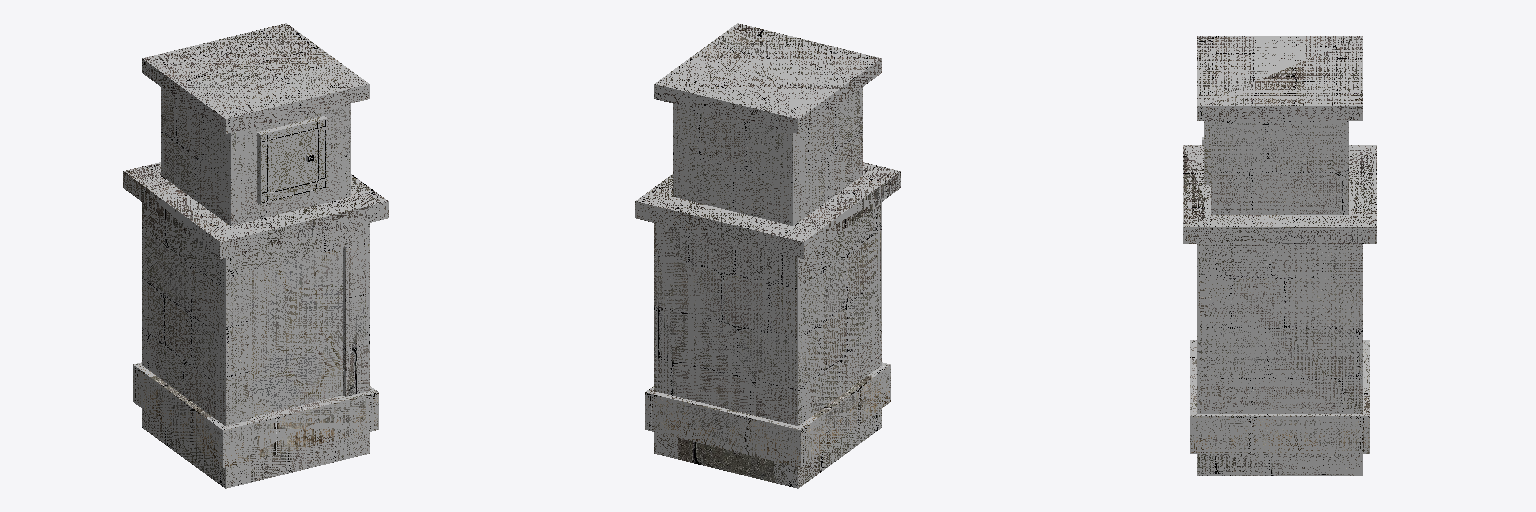
3 renders of one model, left to right at view 1: azimuth 30°, elevation 25°; view 2: azimuth 150°, elevation 25°; view 3: azimuth 270°, elevation 25°, orthographic.
Parts seen in each view (by area): view 1: mesh3.003_mesh3-geometry, mesh1.004_mesh1-geometry; view 2: mesh3.003_mesh3-geometry; view 3: mesh3.003_mesh3-geometry.
Boxes of the visible parts, box(x1,y1,x2,y2) form: mesh3.003_mesh3-geometry: box(123, 23, 388, 488); mesh1.004_mesh1-geometry: box(257, 116, 327, 204); mesh3.003_mesh3-geometry: box(635, 23, 900, 488); mesh3.003_mesh3-geometry: box(1183, 36, 1376, 475).
Bounding box in the file's own units: 0.3947 × 0.8297 × 0.3947.
Materials: 8 (5 with a texture image).